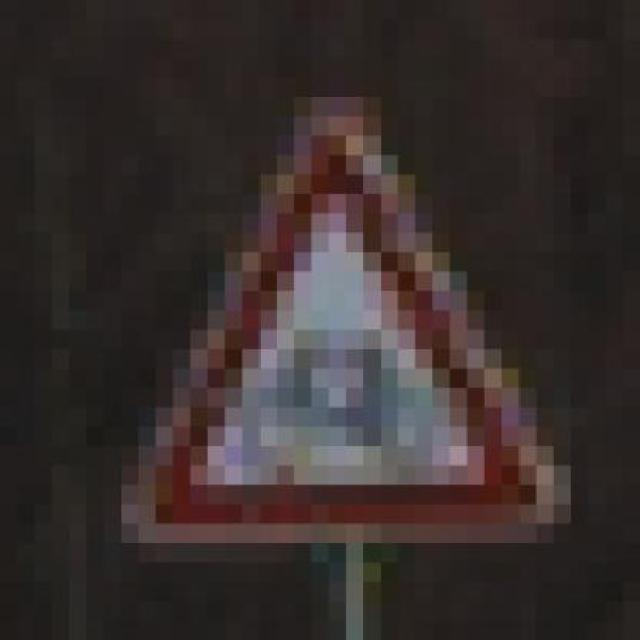CYCLE ROUTE AHEAD WARNING: (86, 78, 588, 562)
